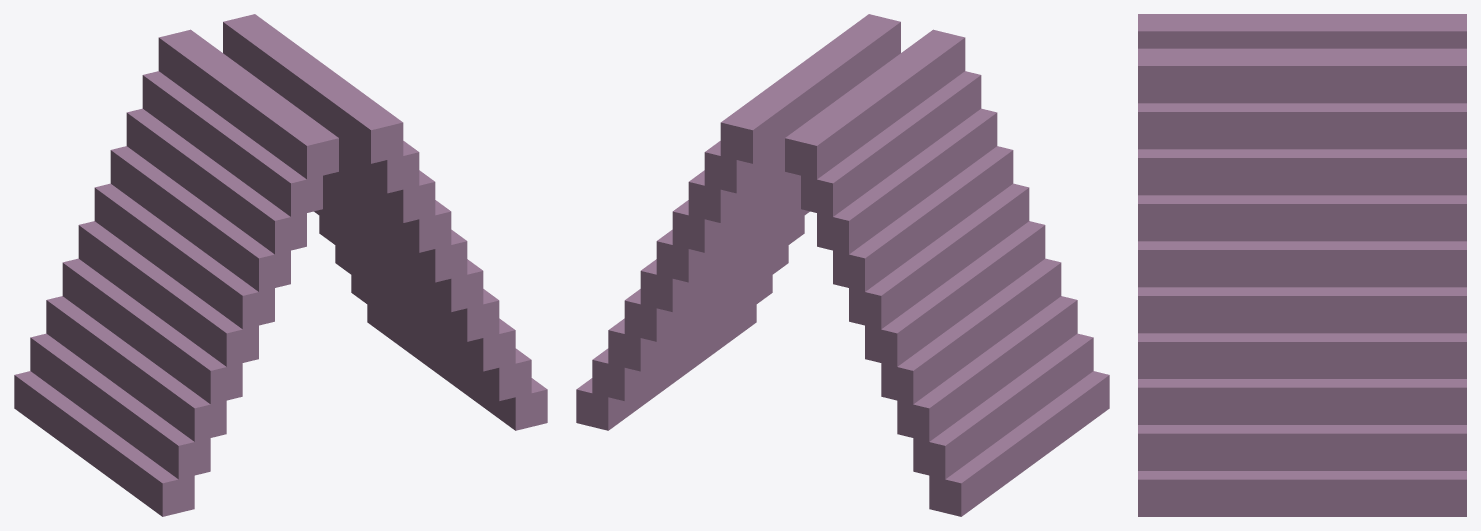
File: events-07.glb
3 views of the same model, side by side, from view 1: azimuth 30°, elevation 25°; view 2: azimuth 150°, elevation 25°; view 3: azimuth 270°, elevation 25° (orthographic). The views are drawn at different scales.
Visible parts, largest first — view 1: Festival tent; view 2: Festival tent; view 3: Festival tent.
Part boxes in pixels (bbox=[...]): Festival tent: bbox=[14, 14, 547, 516]; Festival tent: bbox=[576, 14, 1109, 516]; Festival tent: bbox=[1138, 14, 1466, 516].
Size of the model in its own units: 1.92 by 1.6 by 1.28.
